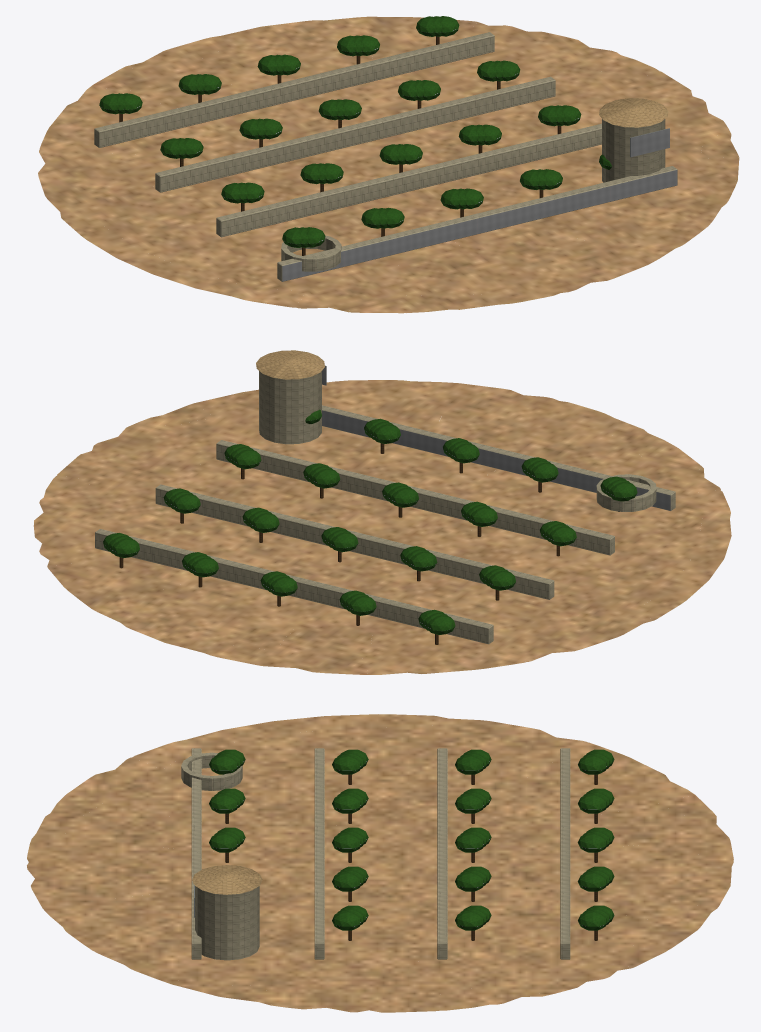
The model's file is plantation-bronze-israelite.glb.
3 renders of one model, top to bottom at view 1: azimuth 30°, elevation 25°; view 2: azimuth 150°, elevation 25°; view 3: azimuth 270°, elevation 25°, orthographic.
Visible parts, largest first — view 1: LOD0; view 2: LOD0; view 3: LOD0.
Boxes of the visible parts, <box> form: LOD0: <box>38,16,739,313</box>; LOD0: <box>33,350,731,674</box>; LOD0: <box>27,714,733,1012</box>.
Size of what is drawn, in the model's own units: 4.76 by 0.52 by 4.77.
3 materials, 3 textured.
